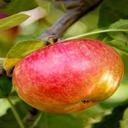apple: (12, 40, 124, 114)
